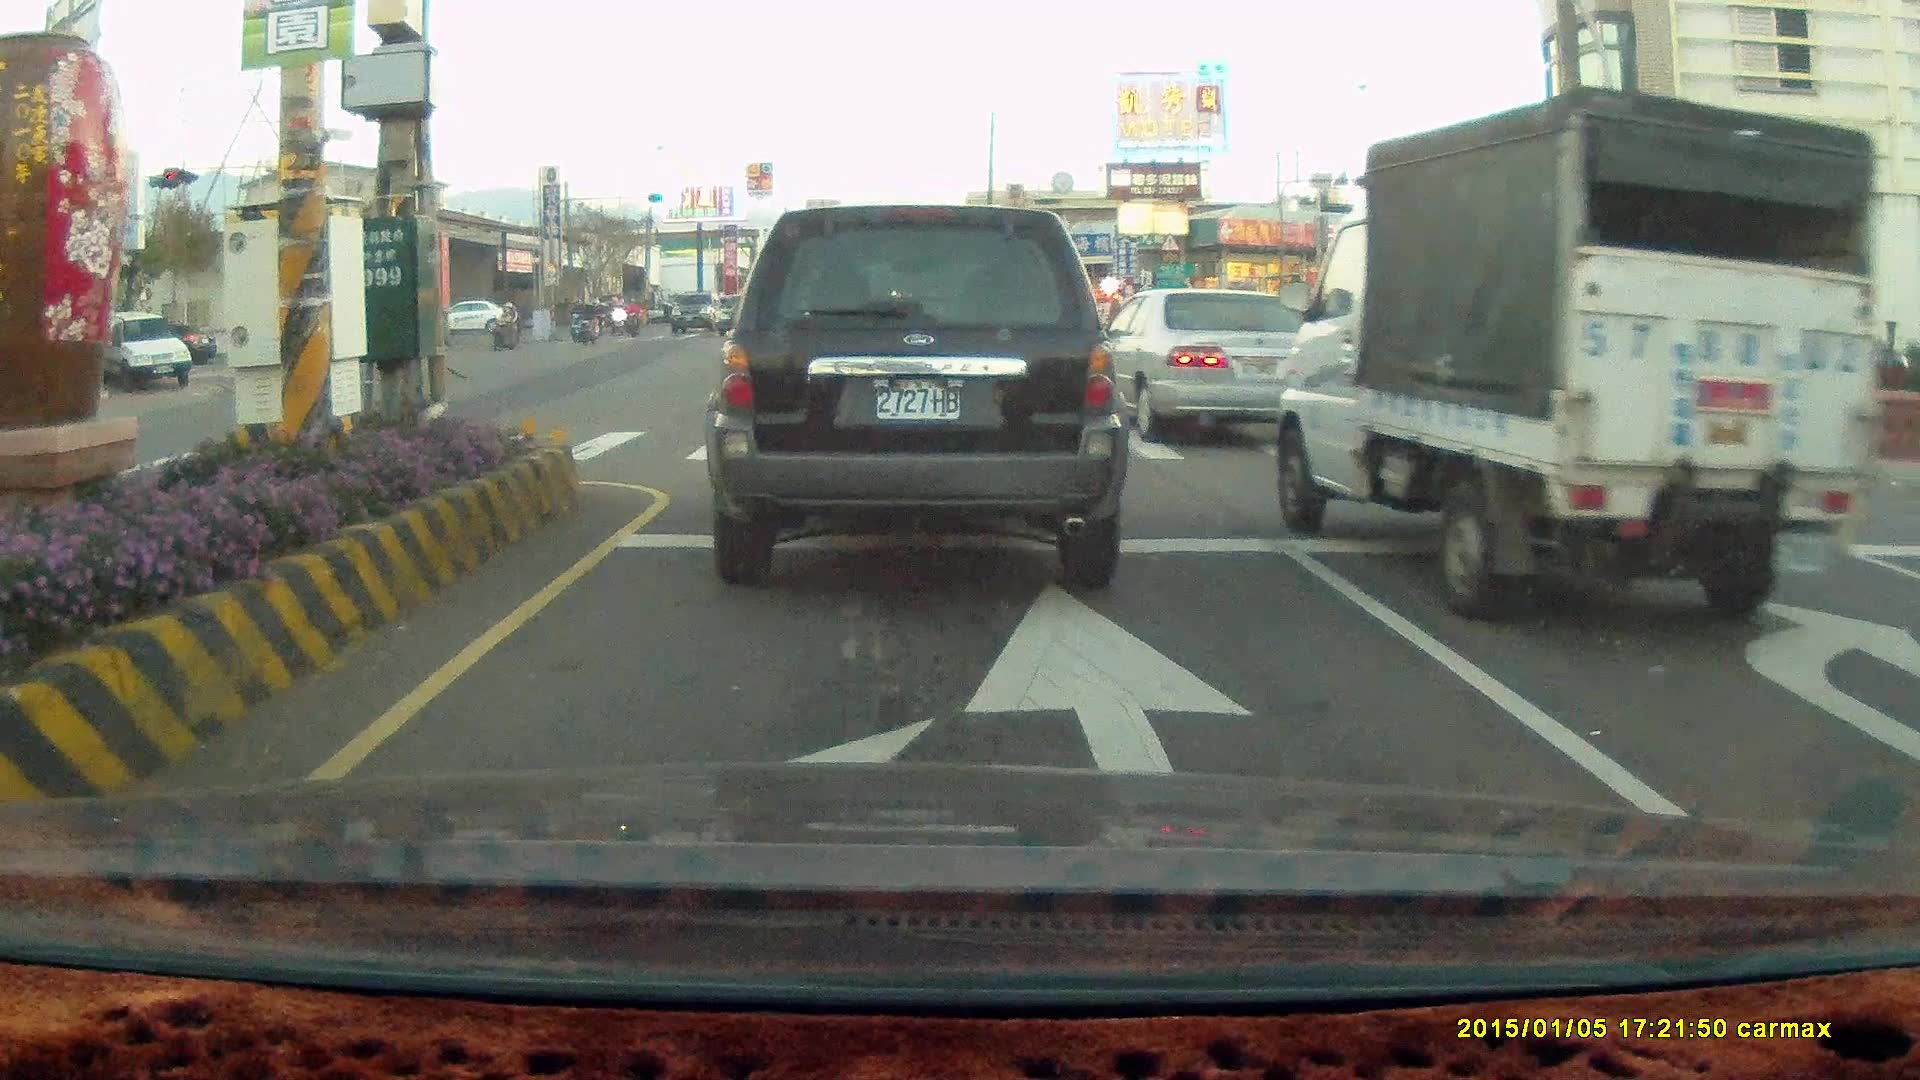rider: (490, 298, 524, 346), (574, 293, 602, 345), (567, 292, 589, 342), (621, 294, 642, 336)
vehicle: (1275, 82, 1880, 625), (700, 201, 1130, 592), (1087, 281, 1343, 441), (1093, 286, 1336, 449), (1700, 285, 1857, 373), (91, 312, 195, 390), (448, 300, 512, 337)
